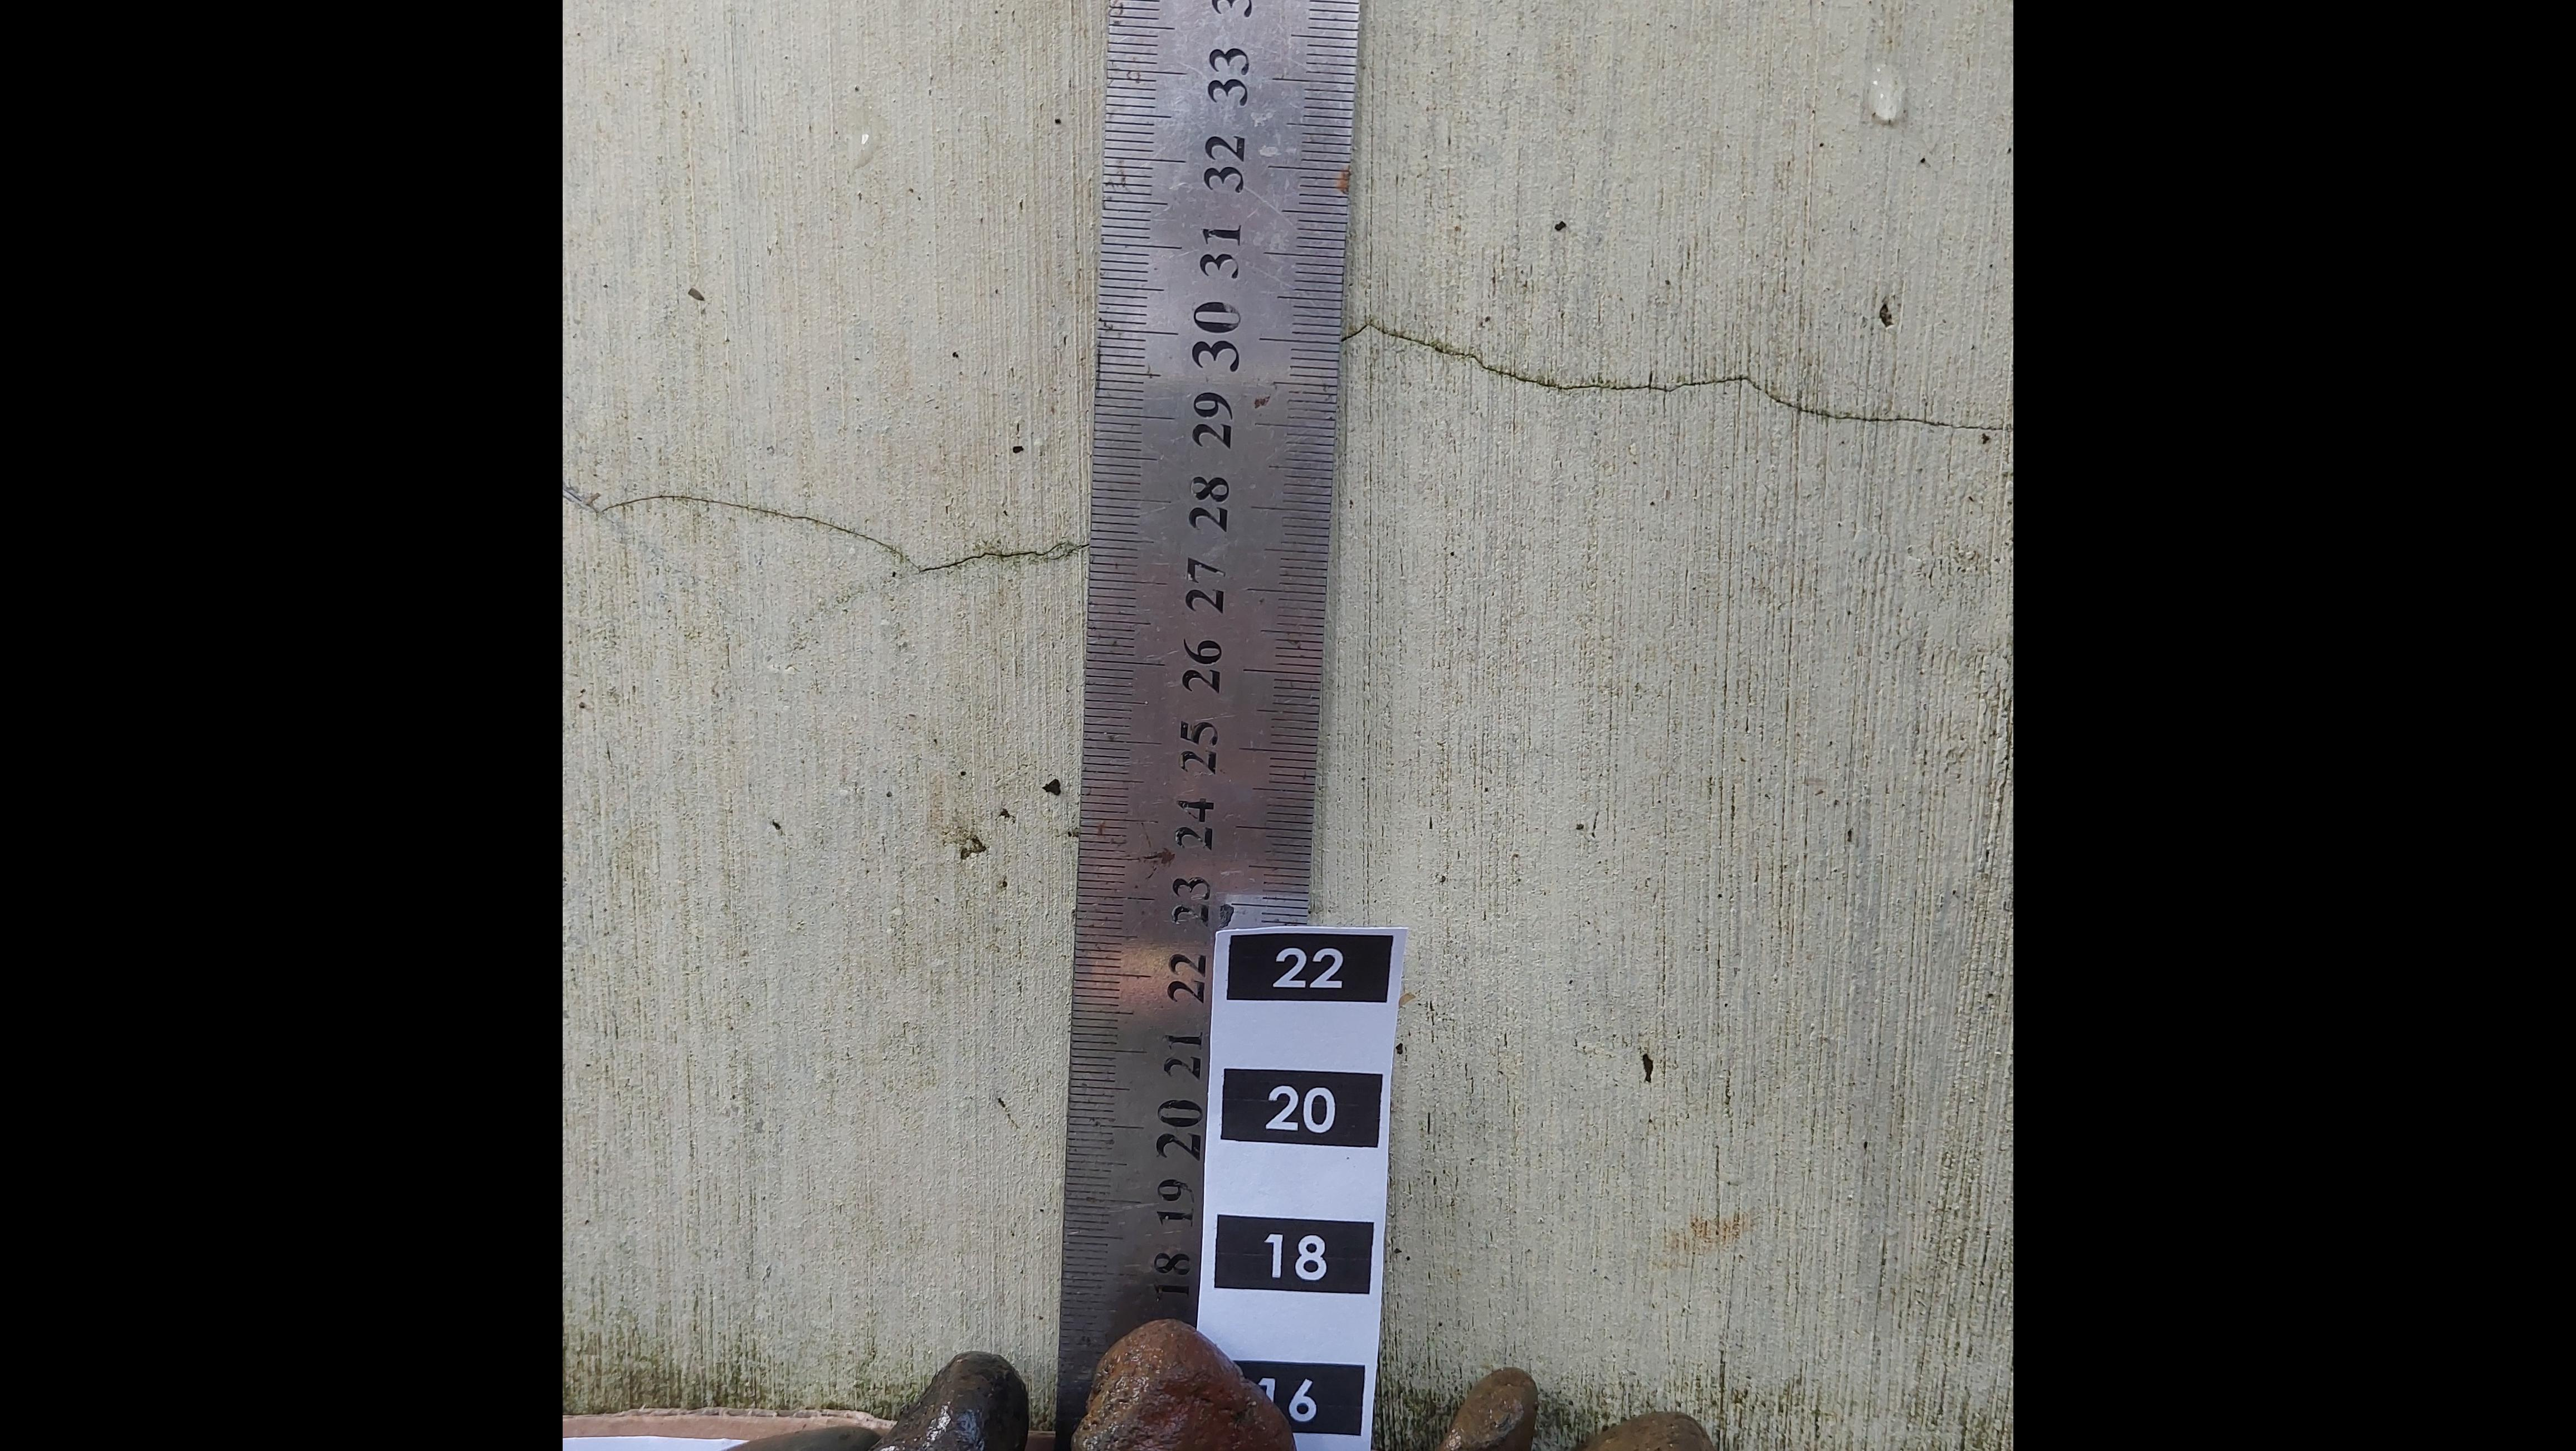kotak_2x1: (1217, 1214, 1371, 1294), (1224, 1067, 1380, 1145), (1230, 933, 1387, 1003)
